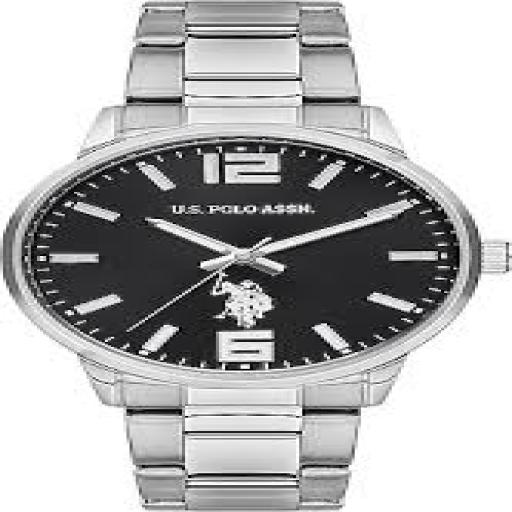KolSaati: (4, 0, 512, 507)
